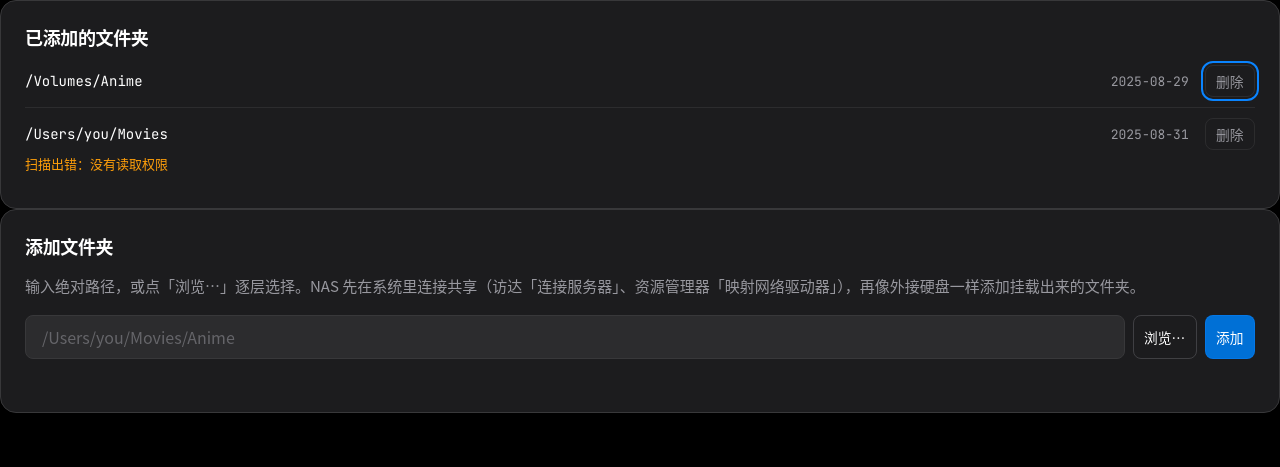
Test: FoldersPanel › 删除失败：原因写出来，那一行还在、能再点；焦点一直留在「删除」上（请求中它只是 aria-disabled）
Click the button "删除" in the row of "/Volumes/Anime". click: {"x": 1230, "y": 81}
box: [1205,65,1255,97]
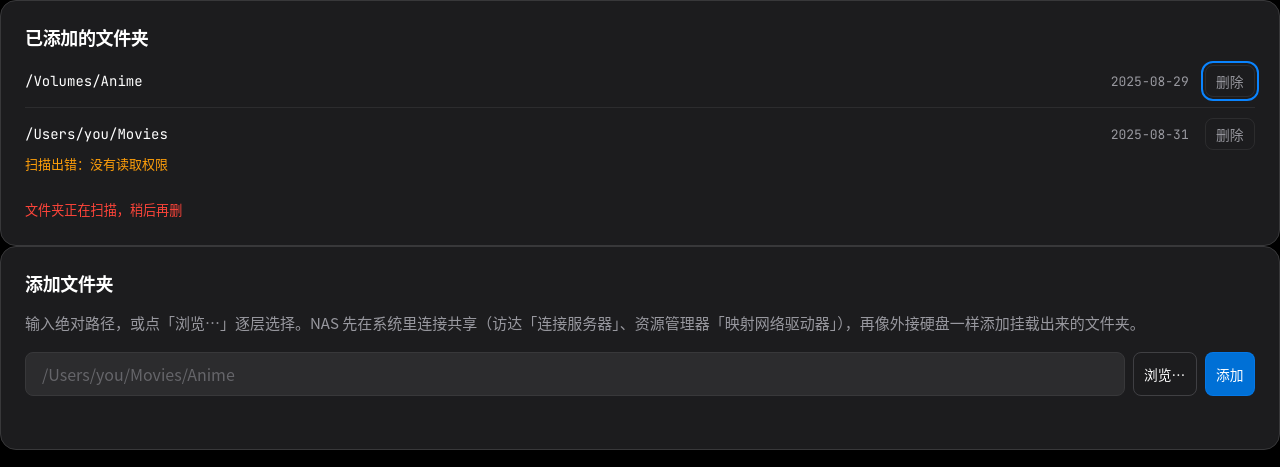
Result: the message "文件夹正在扫描，稍后再删" is shown at [25,200,182,219]
